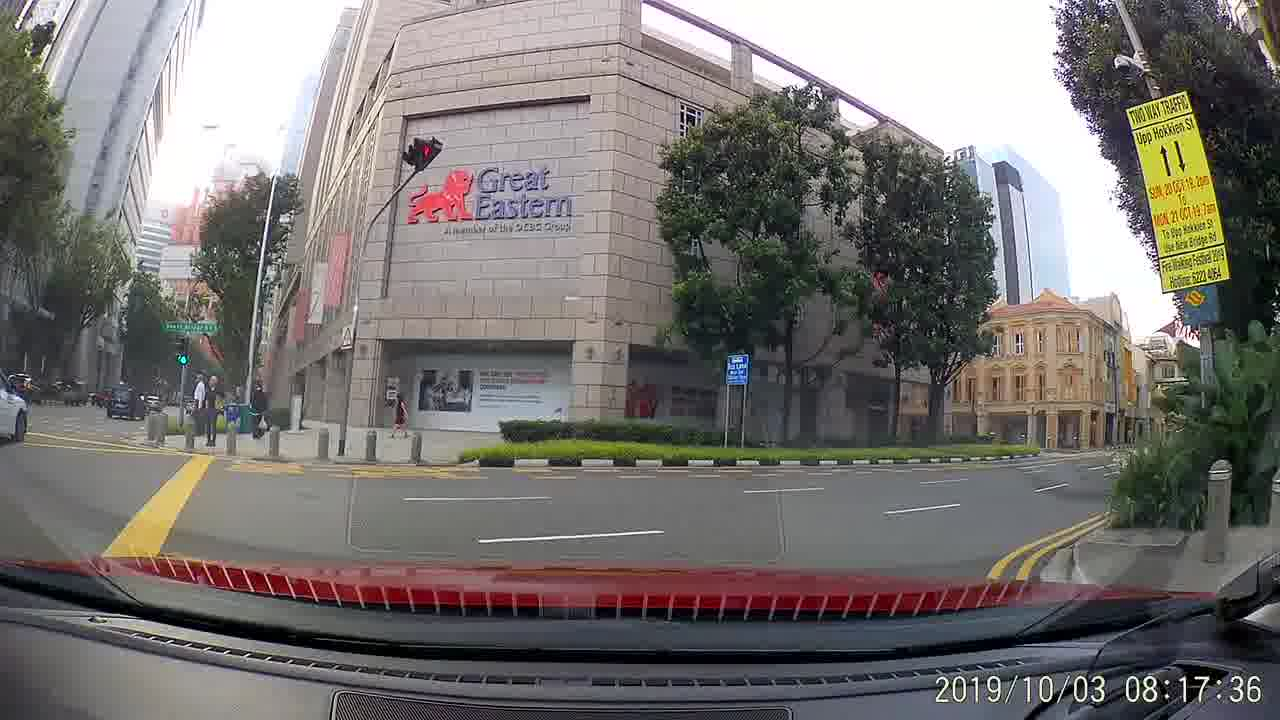car: (0, 362, 32, 447), (104, 386, 149, 423), (150, 392, 165, 415)
